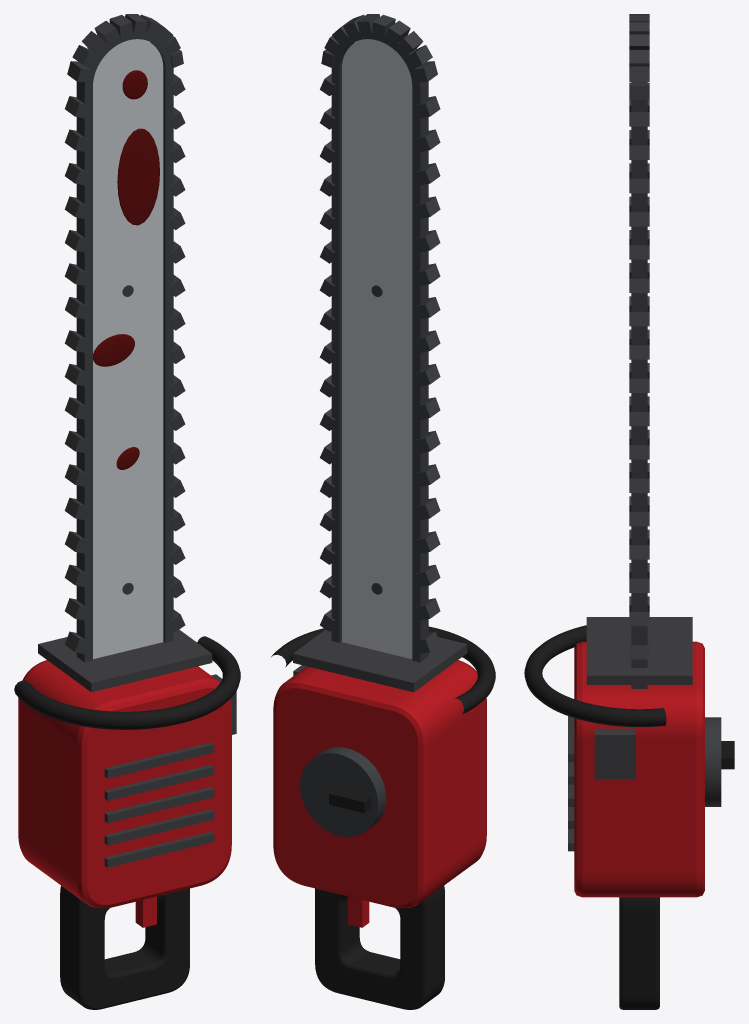
Rendered from motosierra.glb.
3 views of the same model, side by side, from view 1: azimuth 30°, elevation 25°; view 2: azimuth 150°, elevation 25°; view 3: azimuth 270°, elevation 25° (orthographic).
Parts seen in each view (by area): view 1: espada, carcasa, cadena, empunadura_trasera, asa_delantera, protector_mano, espada_sangre_1, aleta_3, aleta_2, aleta_4, aleta_5, aleta_1 (+3 smaller); view 2: espada, carcasa, cadena, empunadura_trasera, arrancador, protector_mano, asa_delantera, tirador, gatillo; view 3: carcasa, protector_mano, cadena, empunadura_trasera, asa_delantera, escape, arrancador.
Part boxes in pixels (box(x1,y1,x2,y2)): espada: box(93, 39, 163, 658); carcasa: box(18, 660, 231, 908); cadena: box(76, 33, 173, 662); empunadura_trasera: box(60, 885, 189, 1009); asa_delantera: box(14, 636, 240, 729); protector_mano: box(38, 629, 212, 692); espada_sangre_1: box(117, 128, 159, 225); aleta_3: box(104, 787, 214, 823); aleta_2: box(104, 809, 214, 845); aleta_4: box(104, 764, 214, 800); aleta_5: box(104, 742, 214, 778); aleta_1: box(104, 831, 214, 867); espada: box(342, 39, 412, 658); carcasa: box(273, 660, 486, 908); cadena: box(331, 33, 428, 662); empunadura_trasera: box(315, 885, 444, 1009); arrancador: box(300, 747, 386, 836); protector_mano: box(293, 630, 467, 692); asa_delantera: box(271, 626, 495, 714); tirador: box(329, 788, 370, 813); gatillo: box(348, 896, 369, 927); carcasa: box(574, 641, 704, 897); protector_mano: box(586, 617, 692, 684); cadena: box(631, 66, 647, 688); empunadura_trasera: box(619, 897, 659, 1009); asa_delantera: box(524, 625, 666, 726); escape: box(594, 728, 635, 779); arrancador: box(705, 717, 721, 806).
Bounding box in the file's own units: 0.564 × 2.62 × 0.5145.
